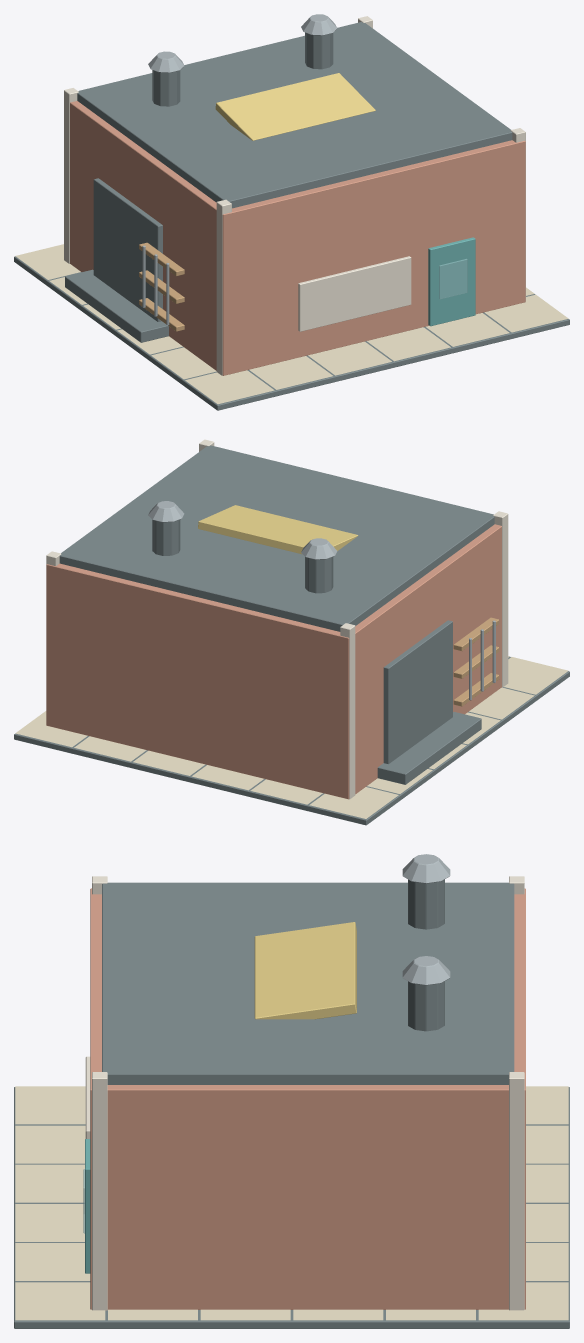
Rendered from b06-maker-workshop.glb.
The picture shows the model from 3 angles, top to bottom: view 1: azimuth 30°, elevation 25°; view 2: azimuth 150°, elevation 25°; view 3: azimuth 270°, elevation 25°; orthographic projection. The views are drawn at different scales.
Parts seen in each view (by area): view 1: MM_STR_B06_MAKER_WORKSHOP_A_LOD0; view 2: MM_STR_B06_MAKER_WORKSHOP_A_LOD0; view 3: MM_STR_B06_MAKER_WORKSHOP_A_LOD0.
Part boxes in pixels (<box>): MM_STR_B06_MAKER_WORKSHOP_A_LOD0: <box>14,14,569,410</box>; MM_STR_B06_MAKER_WORKSHOP_A_LOD0: <box>14,439,569,825</box>; MM_STR_B06_MAKER_WORKSHOP_A_LOD0: <box>14,854,569,1328</box>.
Bounding box in the file's own units: 12 × 7.18 × 12.
